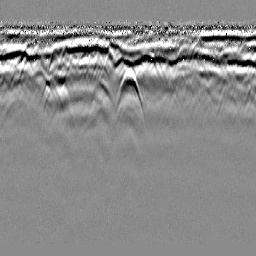cavity: (113, 66, 148, 131)
